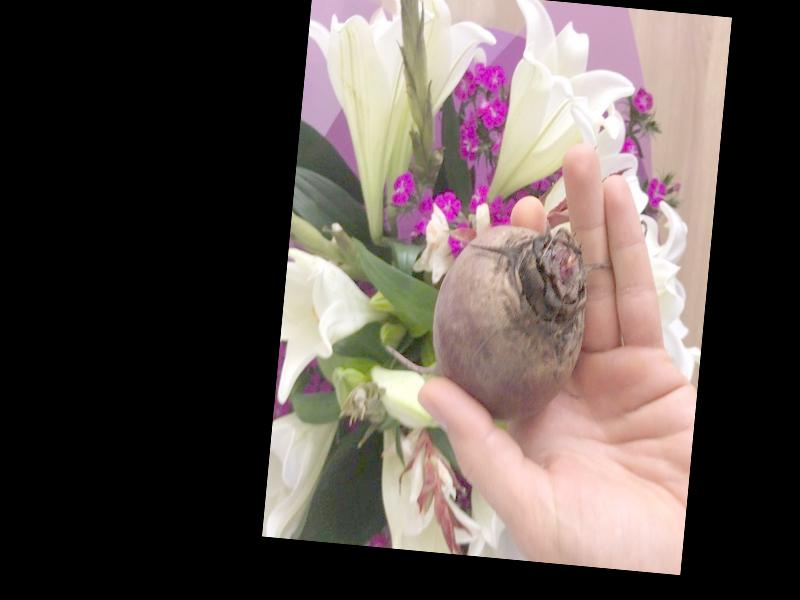Beet: (378, 214, 593, 427)
